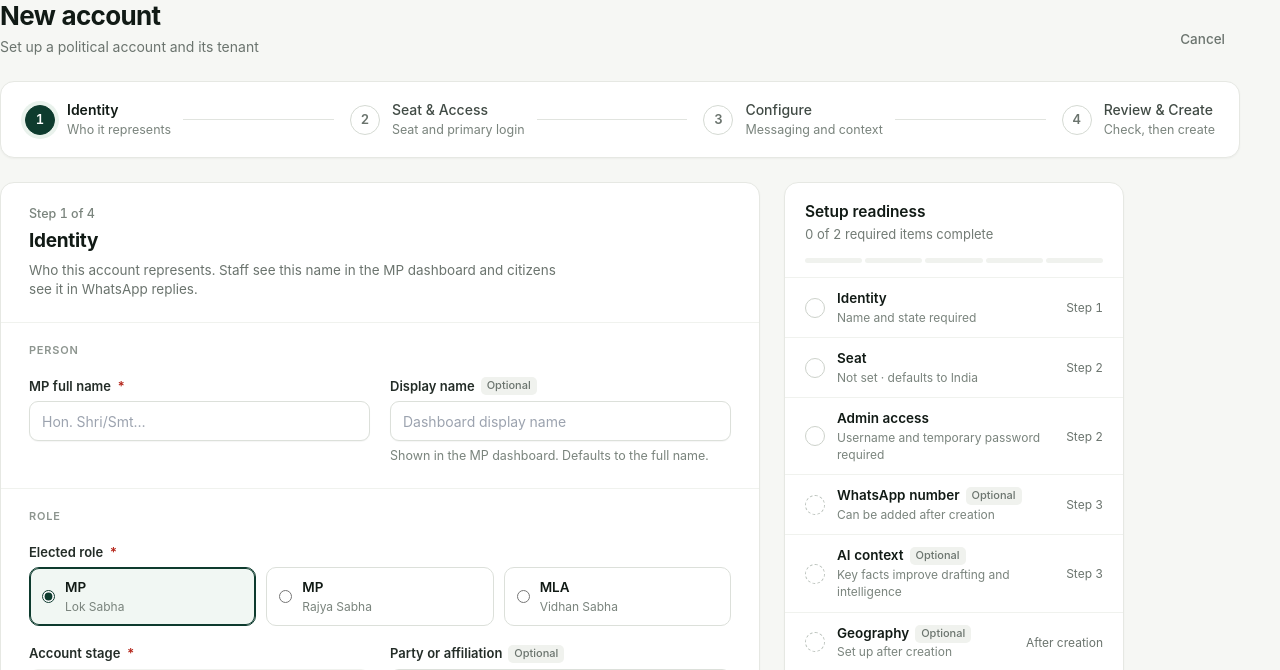
Test case: Create account flow › lets operators return to a completed step from the stepper
Type "A" into the field labelled "MP full name". click: point(200, 422)
box: [29, 402, 370, 442]
(page scrolled)
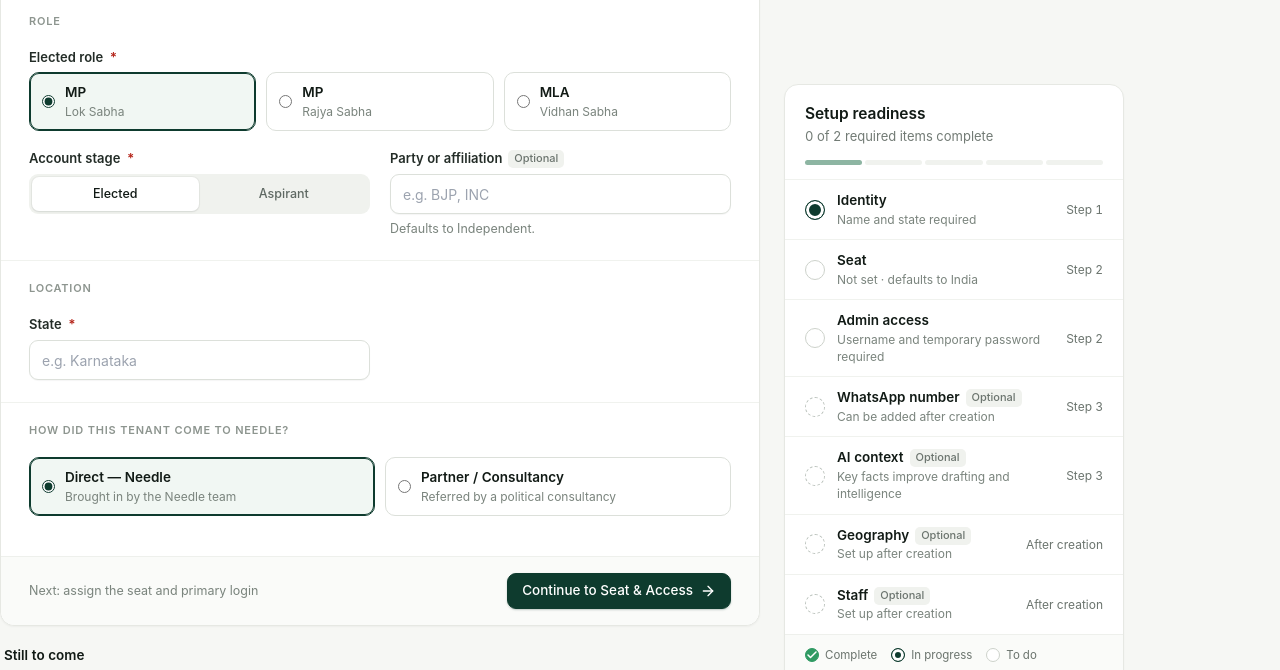
Type "K" into the field labelled "State". click: point(200, 360)
box: [29, 340, 370, 380]
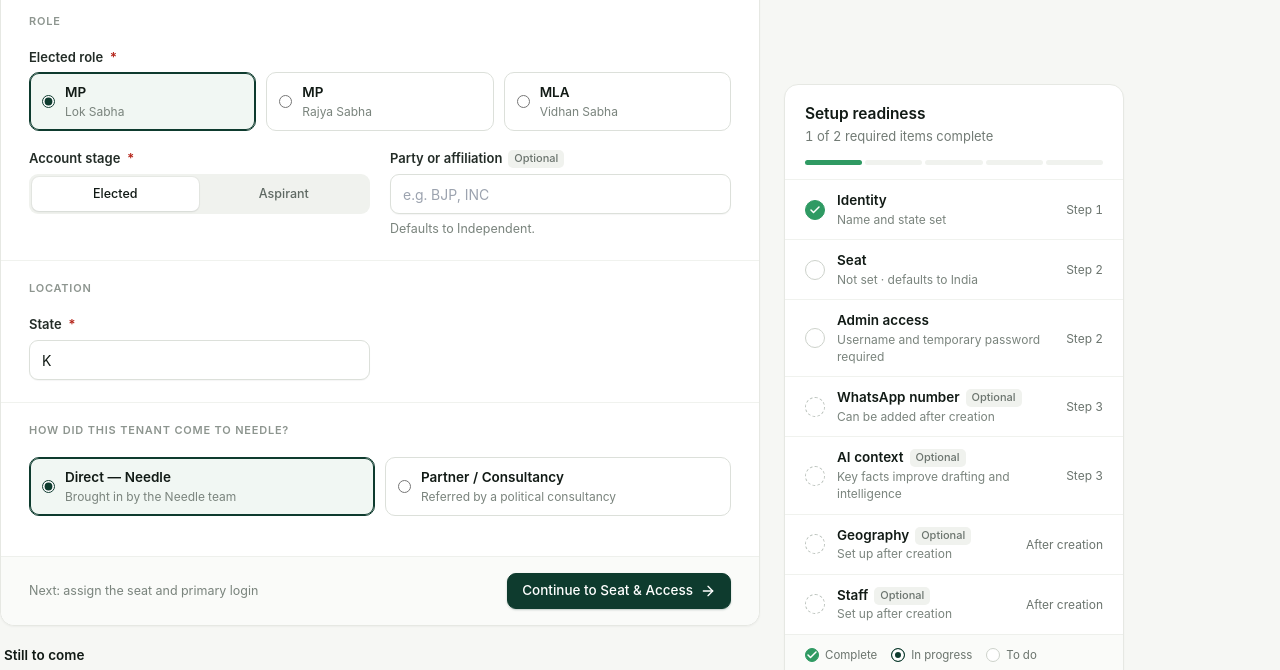
Click the button "Continue to Seat & Access". click: point(619, 591)
box: [507, 573, 731, 609]
(page scrolled)
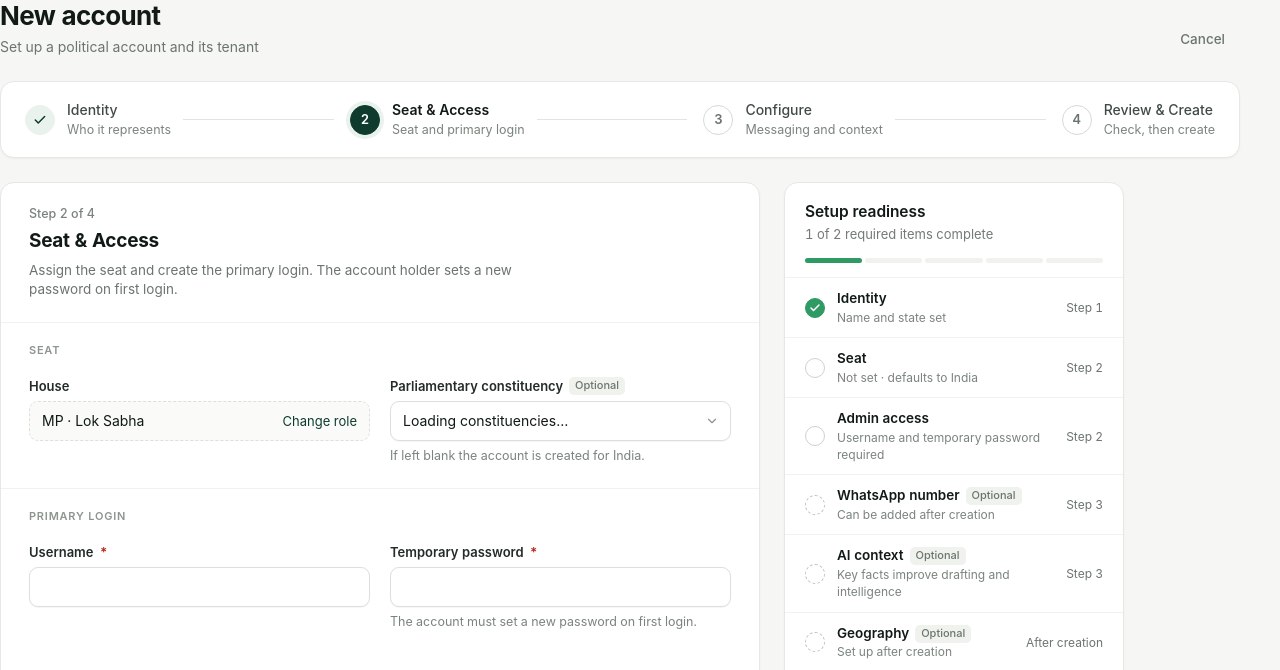
Click the button with aria-label "Back to Identity (complete)". click: point(98, 120)
box: [25, 100, 171, 139]
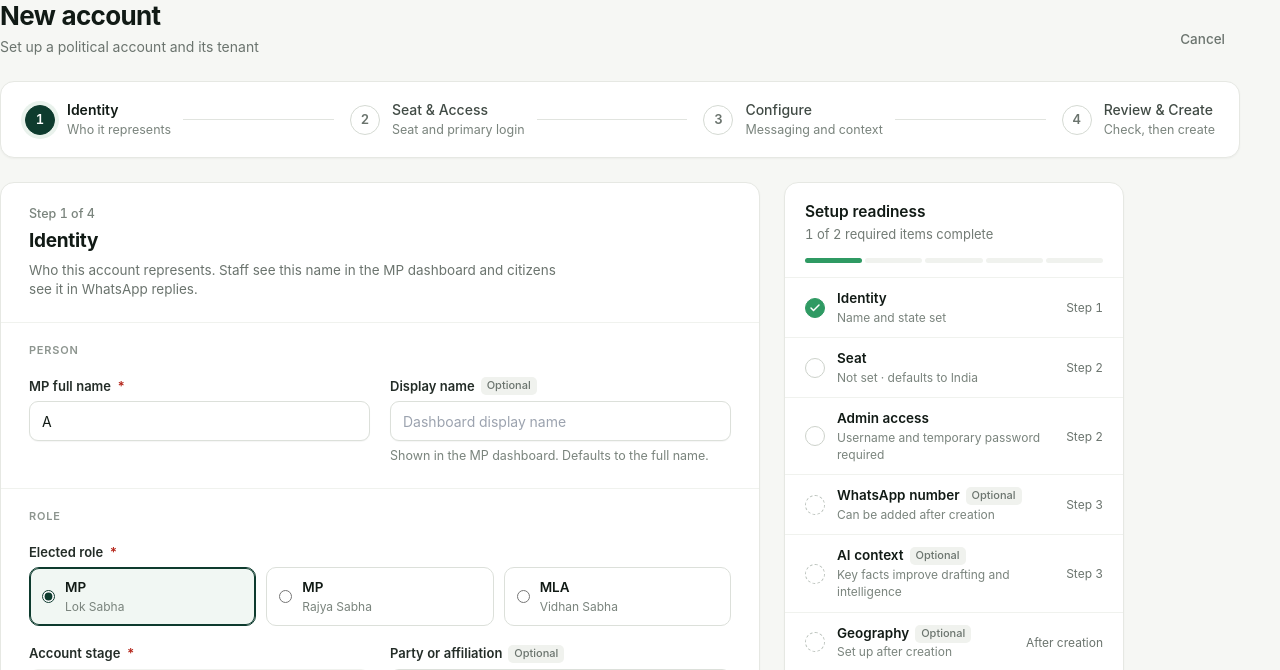
Expected: the heading "Identity" is shown, [29, 229, 98, 252]
Expected: the field labelled "MP full name" holds "A", [29, 402, 370, 442]
